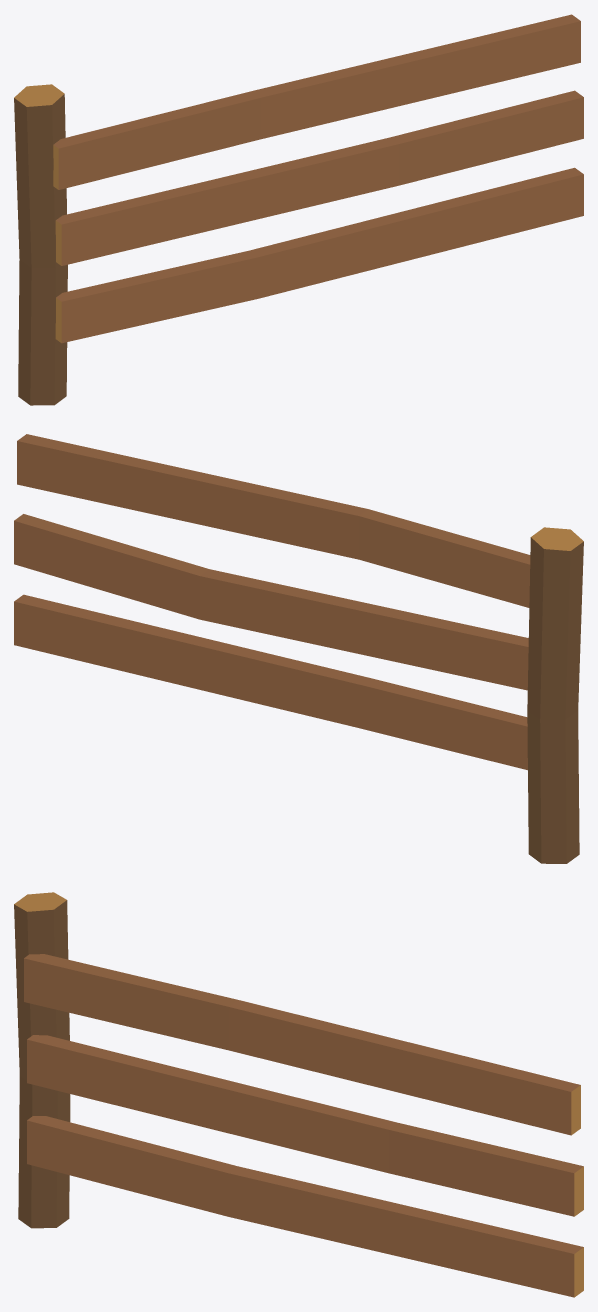
Rendered from fence-start.glb.
The picture shows the model from 3 angles, top to bottom: view 1: azimuth 30°, elevation 25°; view 2: azimuth 150°, elevation 25°; view 3: azimuth 330°, elevation 25°; orthographic projection. The views are drawn at different scales.
Parts seen in each view (by area): view 1: fence-start; view 2: fence-start; view 3: fence-start.
Part boxes in pixels (bbox=[...]): fence-start: bbox=[14, 14, 583, 405]; fence-start: bbox=[14, 434, 583, 863]; fence-start: bbox=[14, 892, 583, 1297].
Bounding box in the file's own units: 2.09 × 1.11 × 0.2235.
Materials: 1 (1 with a texture image).
